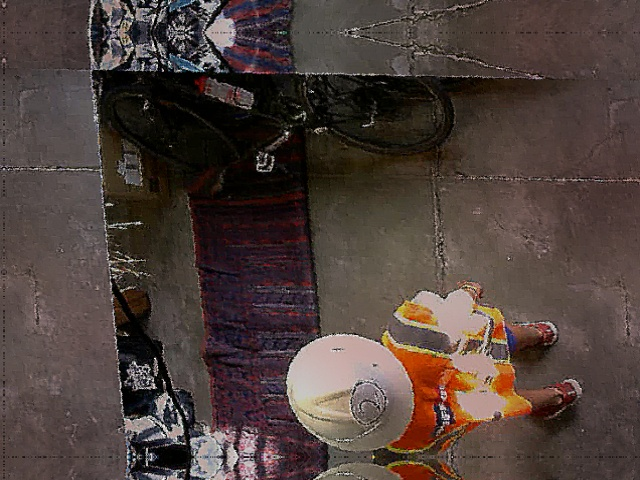two: (347, 379, 388, 425)
